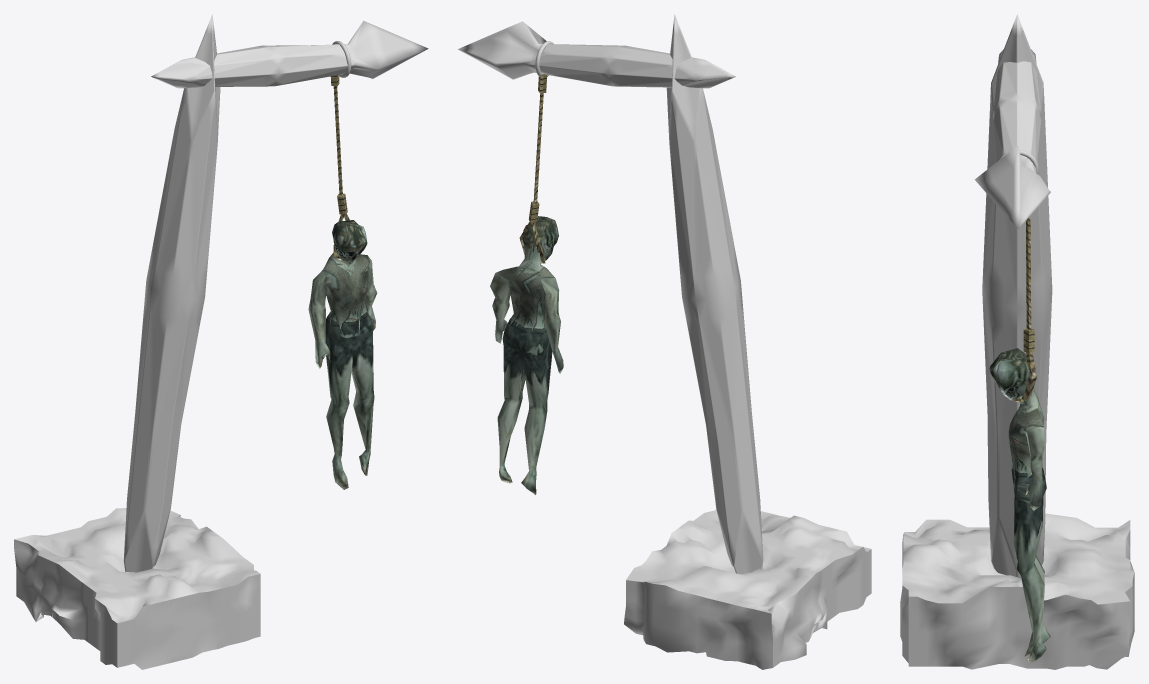
File: DarAgaci.FBX
3 renders of one model, left to right at view 1: azimuth 30°, elevation 25°; view 2: azimuth 150°, elevation 25°; view 3: azimuth 270°, elevation 25°, orthographic. The views are drawn at different scales.
Parts seen in each view (by area): view 1: Box03, Box02, Object01; view 2: Box03, Box02, Object01; view 3: Box02, Box03, Object01.
Boxes of the visible parts, x1=… form: Box03: x1=123, y1=14, x2=428, y2=572; Box02: x1=14, y1=508, x2=260, y2=669; Object01: x1=308, y1=75, x2=377, y2=489; Box03: x1=457, y1=14, x2=763, y2=573; Box02: x1=624, y1=509, x2=871, y2=669; Object01: x1=490, y1=74, x2=563, y2=494; Box02: x1=900, y1=513, x2=1134, y2=669; Box03: x1=974, y1=14, x2=1052, y2=578; Object01: x1=989, y1=216, x2=1050, y2=662.
Size of the model in its own units: 1953 by 2992 by 958.
